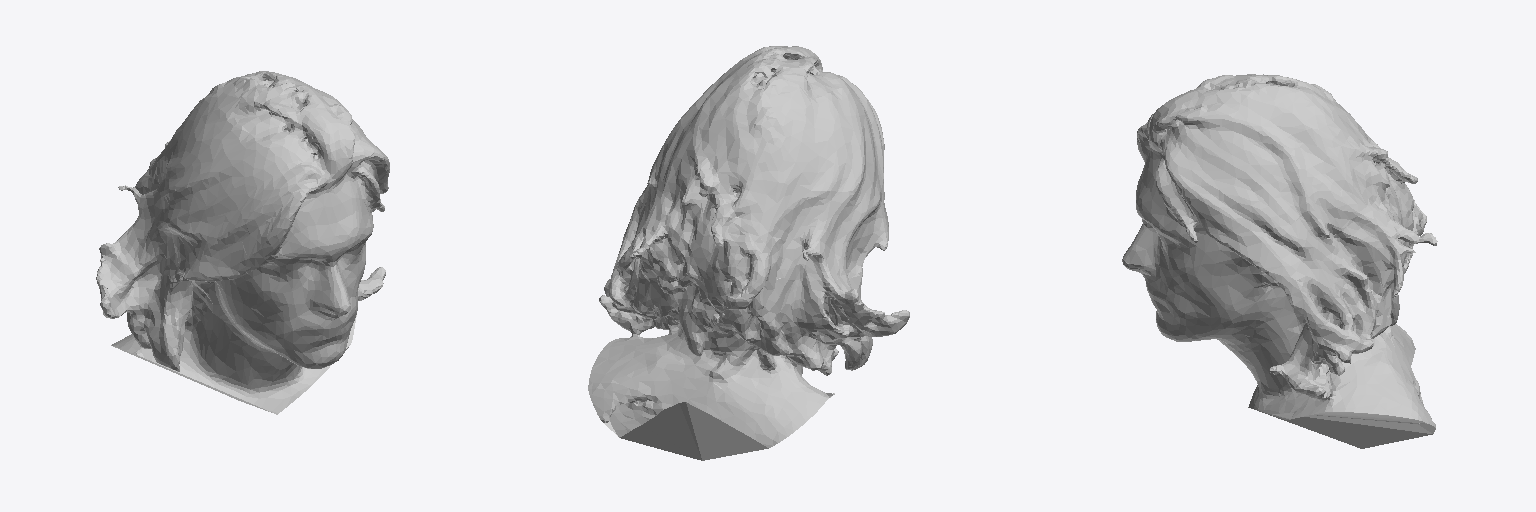
The model's file is tomat.obj.
The picture shows the model from 3 angles: view 1: azimuth 30°, elevation 25°; view 2: azimuth 150°, elevation 25°; view 3: azimuth 270°, elevation 25°; orthographic projection.
Parts seen in each view (by area): view 1: Cube_Cube.001; view 2: Cube_Cube.001; view 3: Cube_Cube.001.
Part boxes in pixels (bbox=[...]): Cube_Cube.001: bbox=[96, 71, 389, 414]; Cube_Cube.001: bbox=[588, 46, 909, 460]; Cube_Cube.001: bbox=[1122, 74, 1437, 448].
Size of the model in its own units: 0.3143 by 0.3664 by 0.2897.